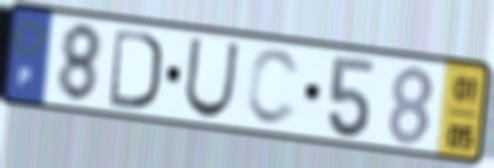5: (326, 53, 378, 141)
8: (55, 20, 105, 106), (387, 62, 436, 147)
C: (244, 46, 304, 130)
D: (107, 25, 164, 113)
U: (181, 34, 243, 121)
